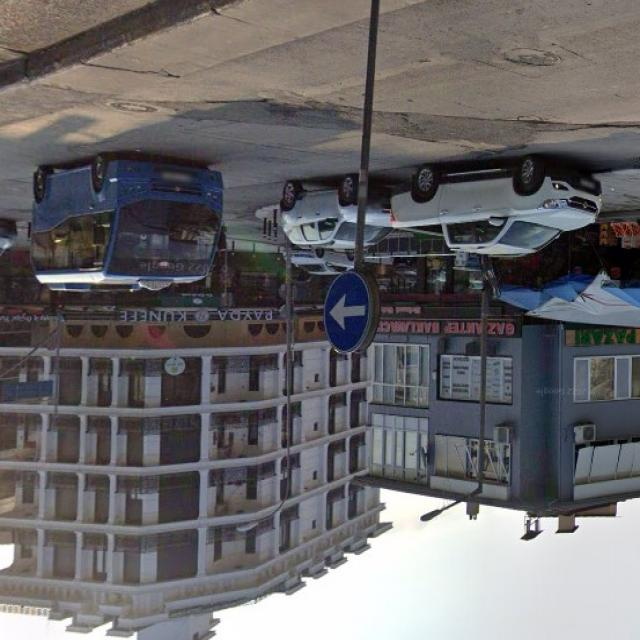Turn Left: (322, 268, 381, 348)
